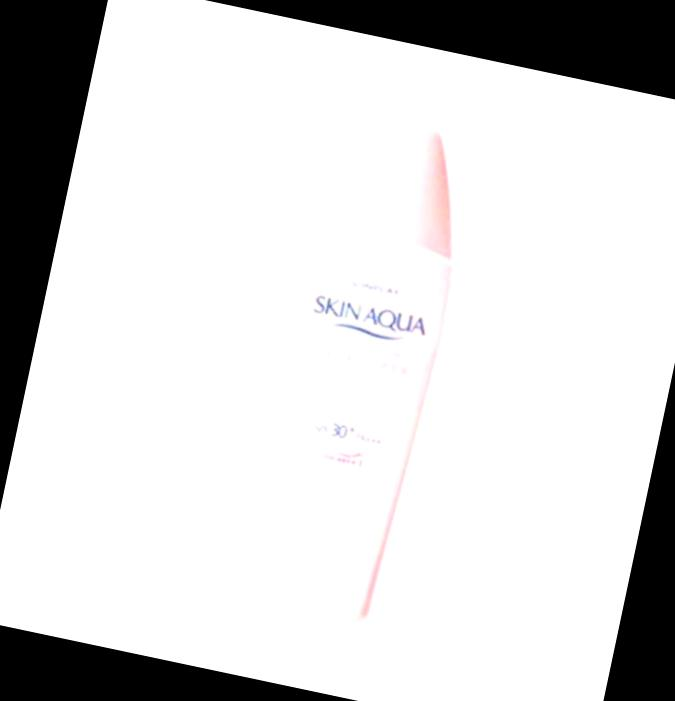cosmetic: (234, 104, 482, 634)
